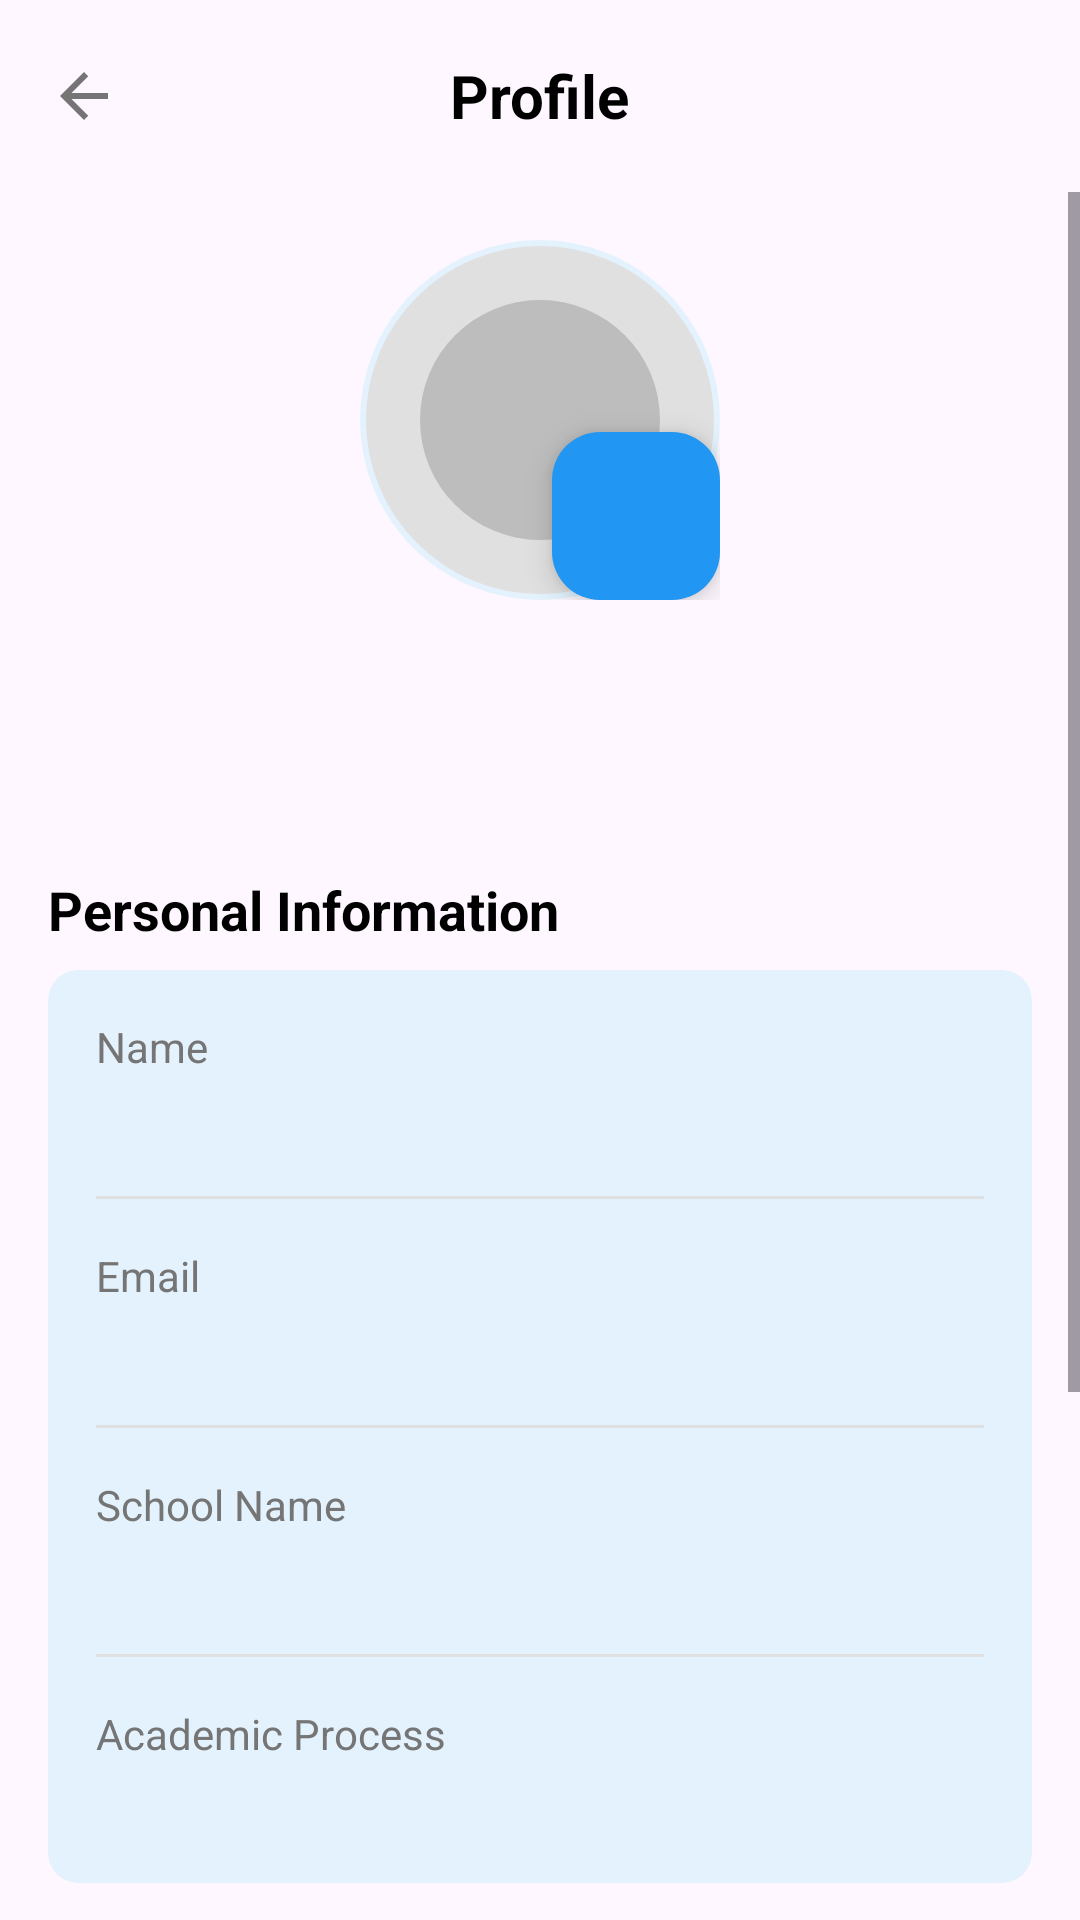

Screen size 1080 × 1920. Icon name, then its center in pixels as point (x, y):
arrow back: point (84, 96)
